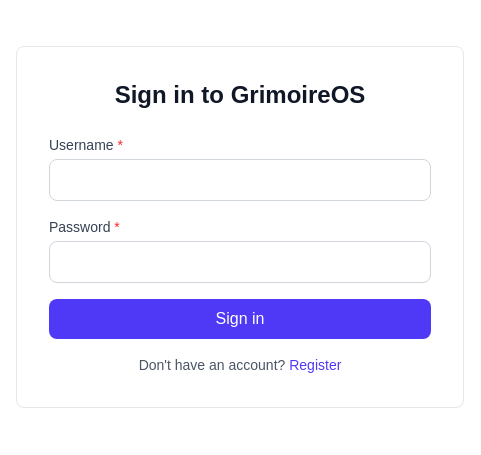
LoginPage › form submission - error handling › displays error message when login throws an Error
Type "bad" into the field labelled "Username *" at point(240, 180), box [49, 159, 431, 201]
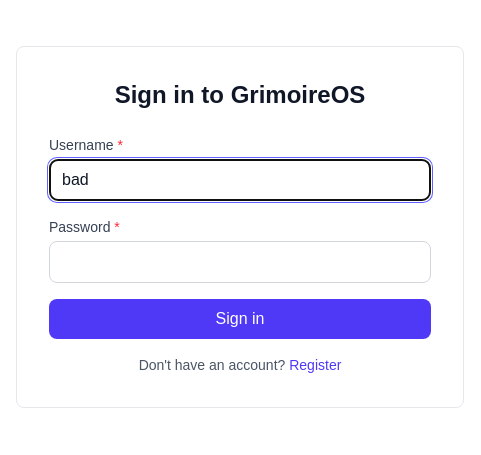
Type "creds" into the password field labelled "Password *" at point(240, 262), box [49, 241, 431, 283]
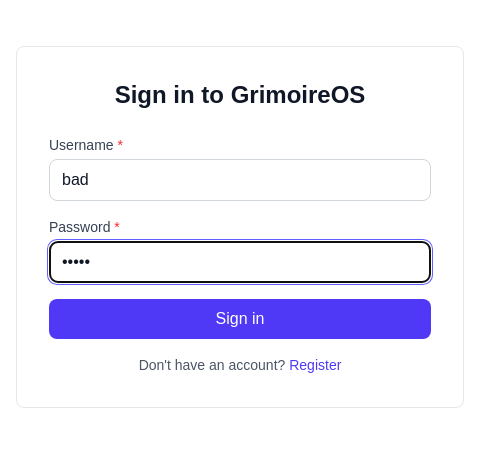
Click the button "Sign in" at point(240, 319), box [49, 299, 431, 339]
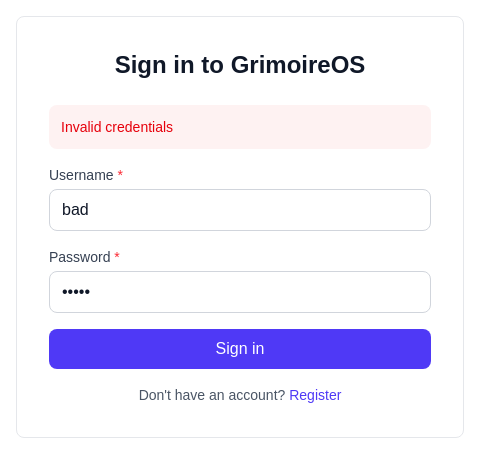
Expected: the text "Invalid credentials" is shown, [49, 105, 431, 149]
